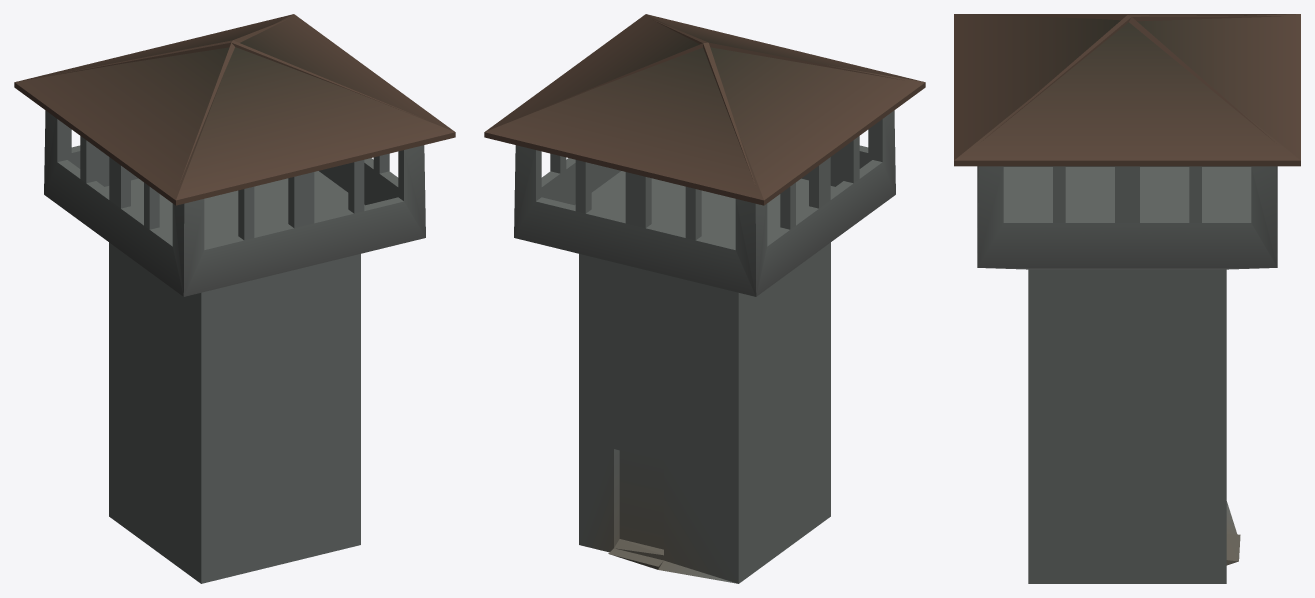
Rendered from prison-tower.lod2.glb.
The picture shows the model from 3 angles, left to right: view 1: azimuth 30°, elevation 25°; view 2: azimuth 150°, elevation 25°; view 3: azimuth 270°, elevation 25°; orthographic projection. The views are drawn at different scales.
Parts seen in each view (by area): view 1: Tower1_stairs_mat_0; view 2: Tower1_stairs_mat_0; view 3: Tower1_stairs_mat_0.
Boxes of the visible parts, x1=… form: Tower1_stairs_mat_0: x1=14, y1=14, x2=455, y2=583; Tower1_stairs_mat_0: x1=484, y1=14, x2=925, y2=583; Tower1_stairs_mat_0: x1=954, y1=14, x2=1300, y2=583.
Size of the model in its own units: 5.99 by 10 by 5.99.
